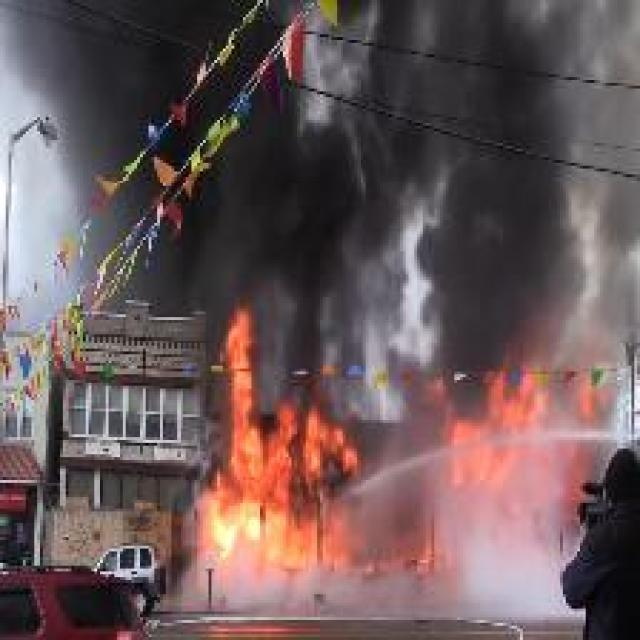Fire: (194, 306, 366, 570), (447, 362, 574, 496)
Smoke: (144, 45, 633, 312)
